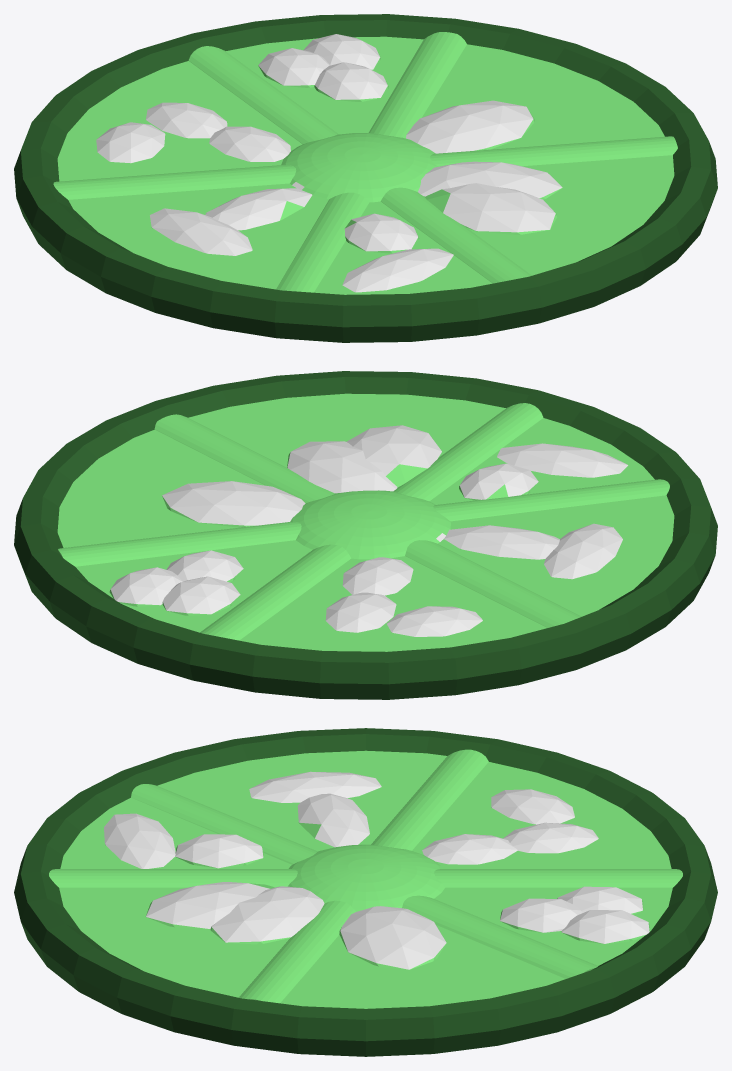
Rendered from cucumber slice.fbx.
3 views of the same model, one above another, from view 1: azimuth 30°, elevation 25°; view 2: azimuth 150°, elevation 25°; view 3: azimuth 270°, elevation 25° (orthographic).
Parts seen in each view (by area): view 1: tomatoe/cucumber; view 2: tomatoe/cucumber; view 3: tomatoe/cucumber.
Boxes of the visible parts, bbox=[...] form: tomatoe/cucumber: bbox=[14, 14, 717, 342]; tomatoe/cucumber: bbox=[14, 371, 717, 699]; tomatoe/cucumber: bbox=[14, 728, 717, 1056].
Size of the model in its own units: 200 by 16.06 by 200.
